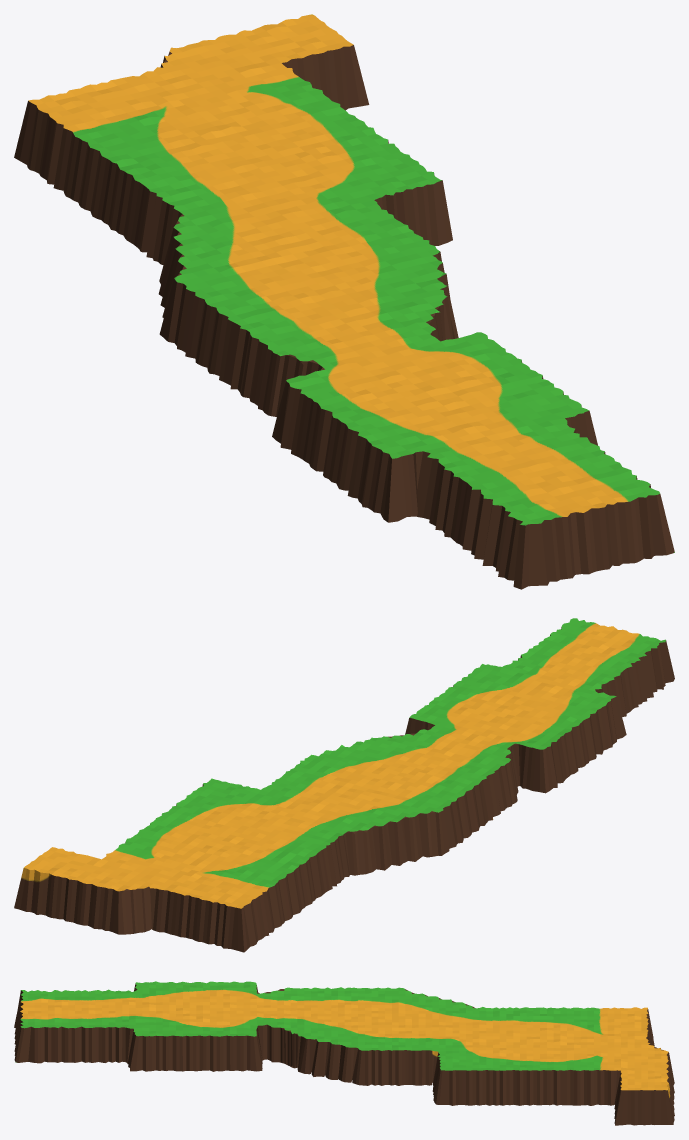
Rendered from SectionOneNew.FBX.
3 renders of one model, top to bottom at view 1: azimuth 30°, elevation 25°; view 2: azimuth 150°, elevation 25°; view 3: azimuth 270°, elevation 25°, orthographic. The views are drawn at different scales.
Parts seen in each view (by area): view 1: SectionOne; view 2: SectionOne; view 3: SectionOne.
Part boxes in pixels (box(x1,y1,x2,y2)): SectionOne: box(14, 14, 674, 589); SectionOne: box(14, 618, 674, 952); SectionOne: box(14, 981, 674, 1125).
Bounding box in the file's own units: 2885 × 401 × 7068.
Materials: 1 (1 with a texture image).
